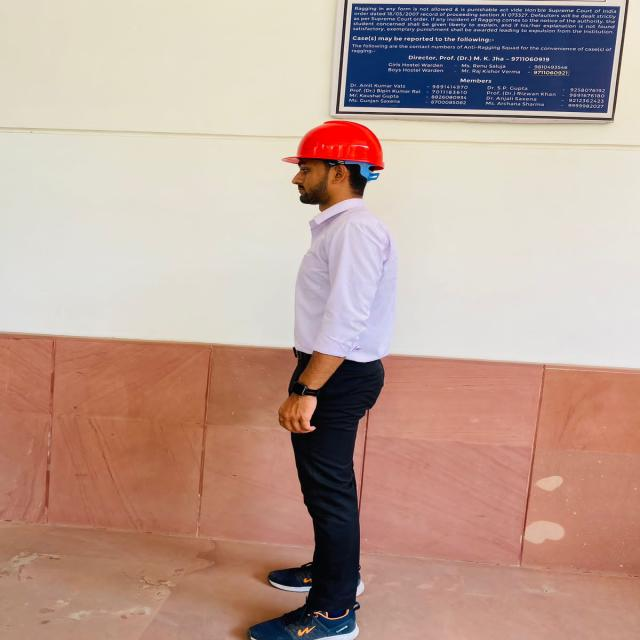no jacket: (282, 120, 395, 640)
